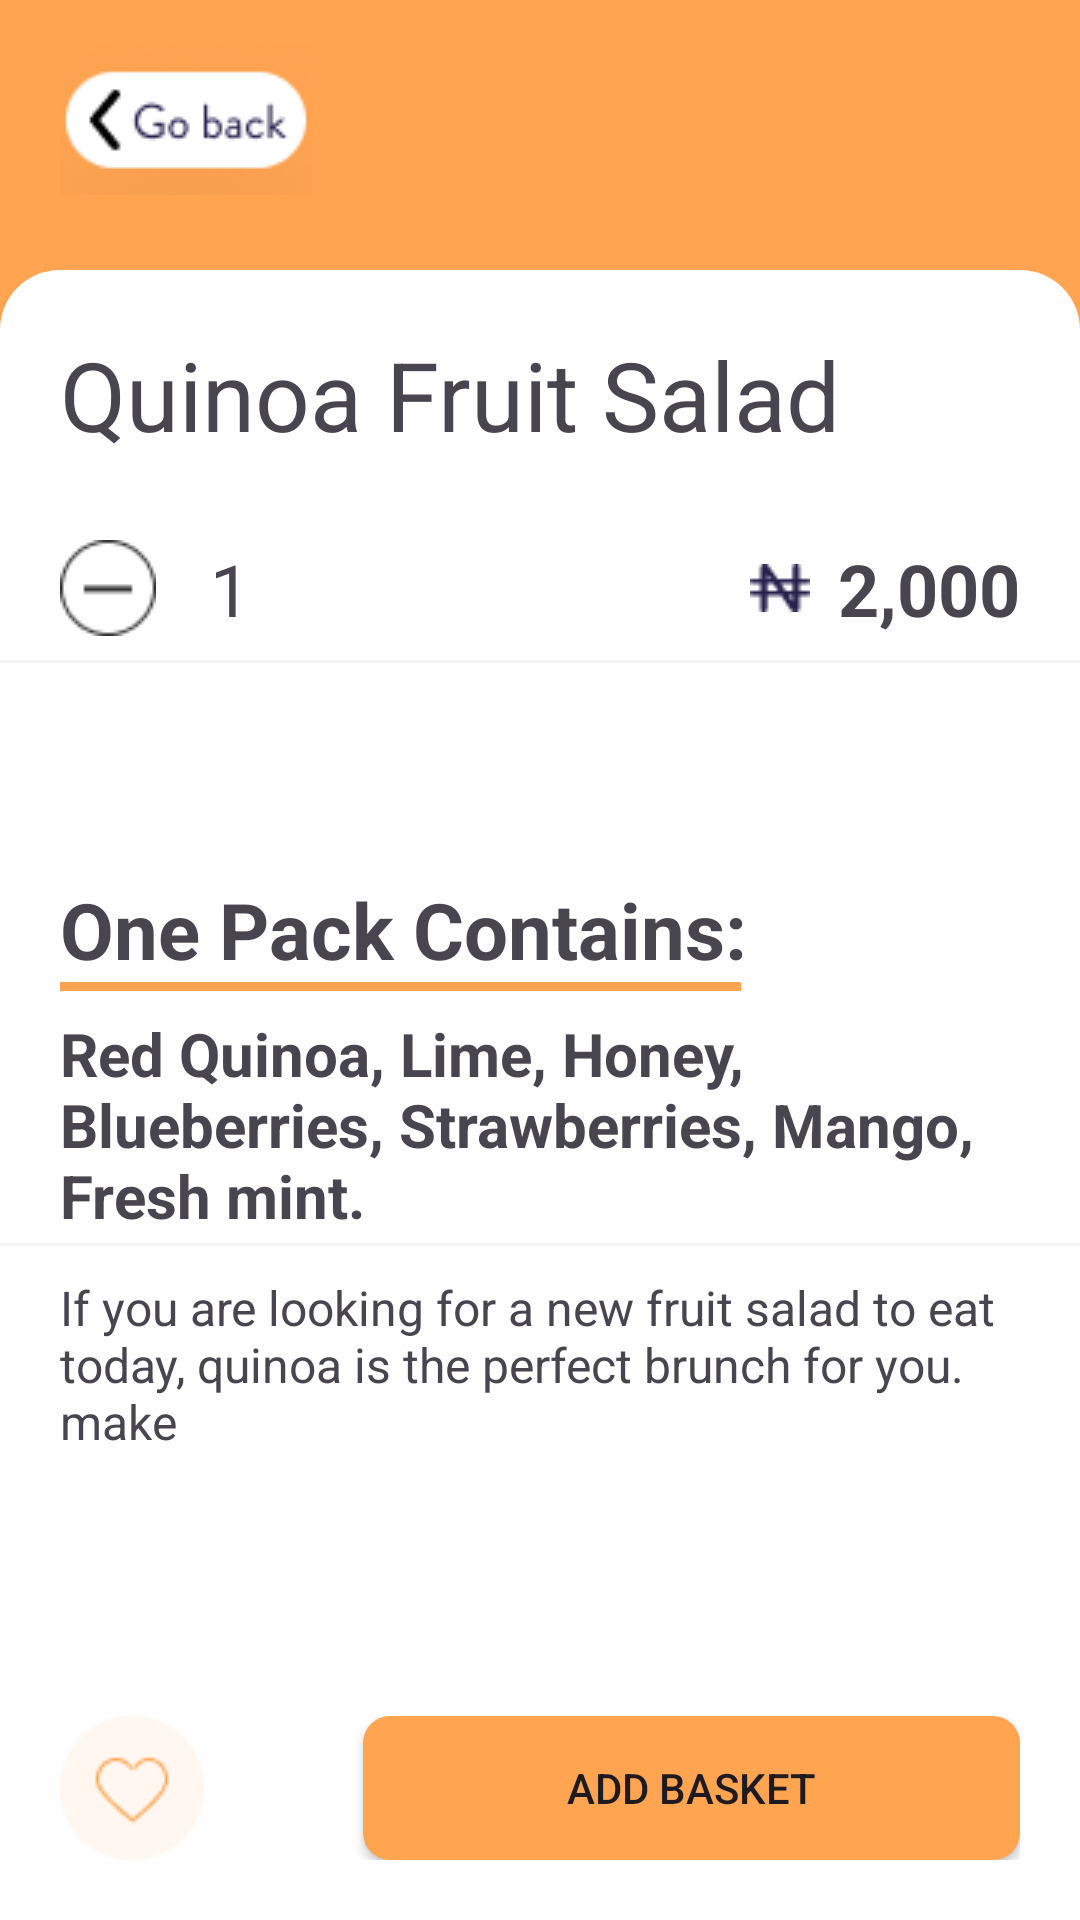

Screen size 1080px x 1920px. Icon name, then its center in pixels as (x,y):
like: (132,1788)
